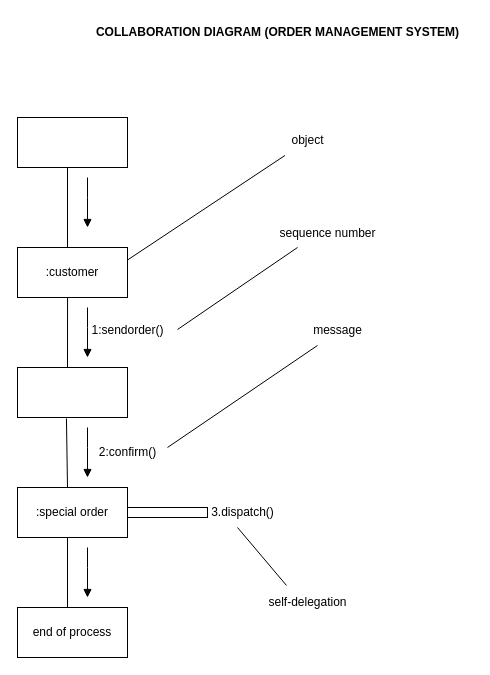
Some shapes in this 490 by 675 pixel diagram are drawn without their labels. Here are the shapes that lost their labels. From the top down, the centre of each, then its label:
(72,142): initialization
(72,392): :order
